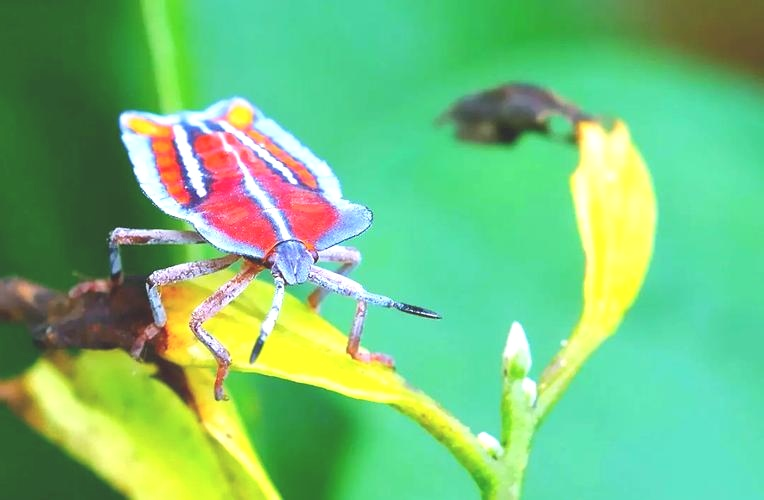Stink_Bug: (121, 110, 383, 353)
